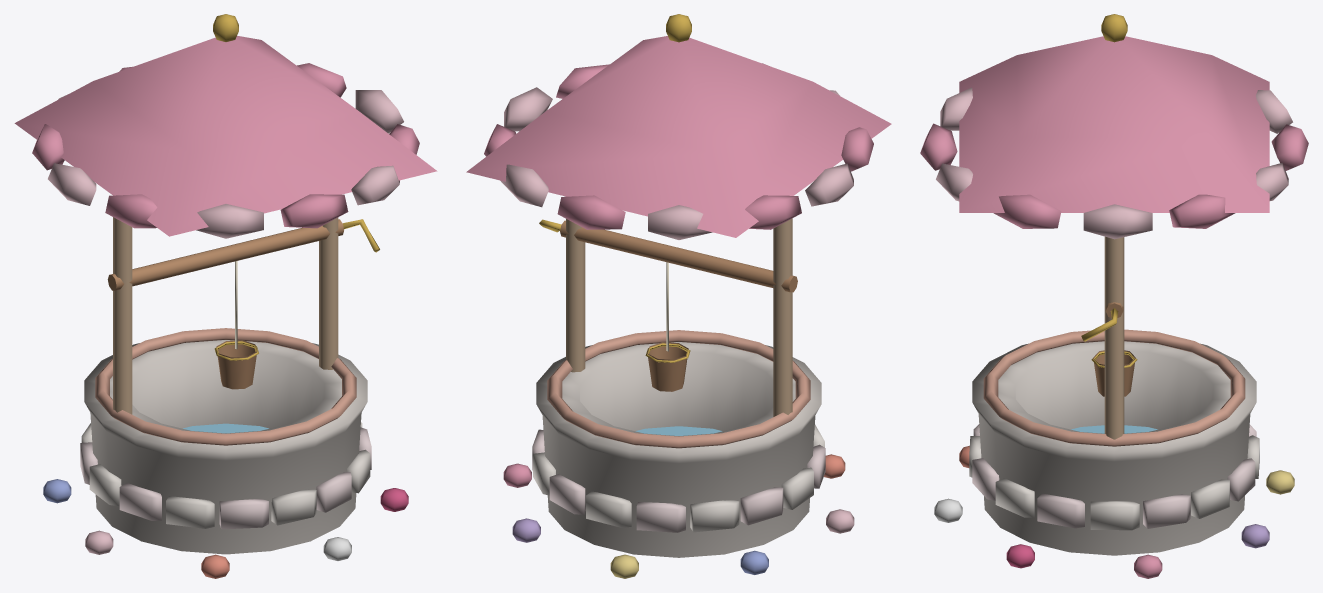
The model's file is fae_well.gltf.
3 renders of one model, left to right at view 1: azimuth 30°, elevation 25°; view 2: azimuth 150°, elevation 25°; view 3: azimuth 270°, elevation 25°, orthographic.
Parts seen in each view (by area): view 1: fae_well; view 2: fae_well; view 3: fae_well.
Boxes of the visible parts, x1,y1,x2,y2 form: fae_well: (14,14,437,578); fae_well: (466,14,891,578); fae_well: (920,14,1308,578).
Size of what is drawn, in the model's own units: 3.1 by 4.33 by 3.1.
